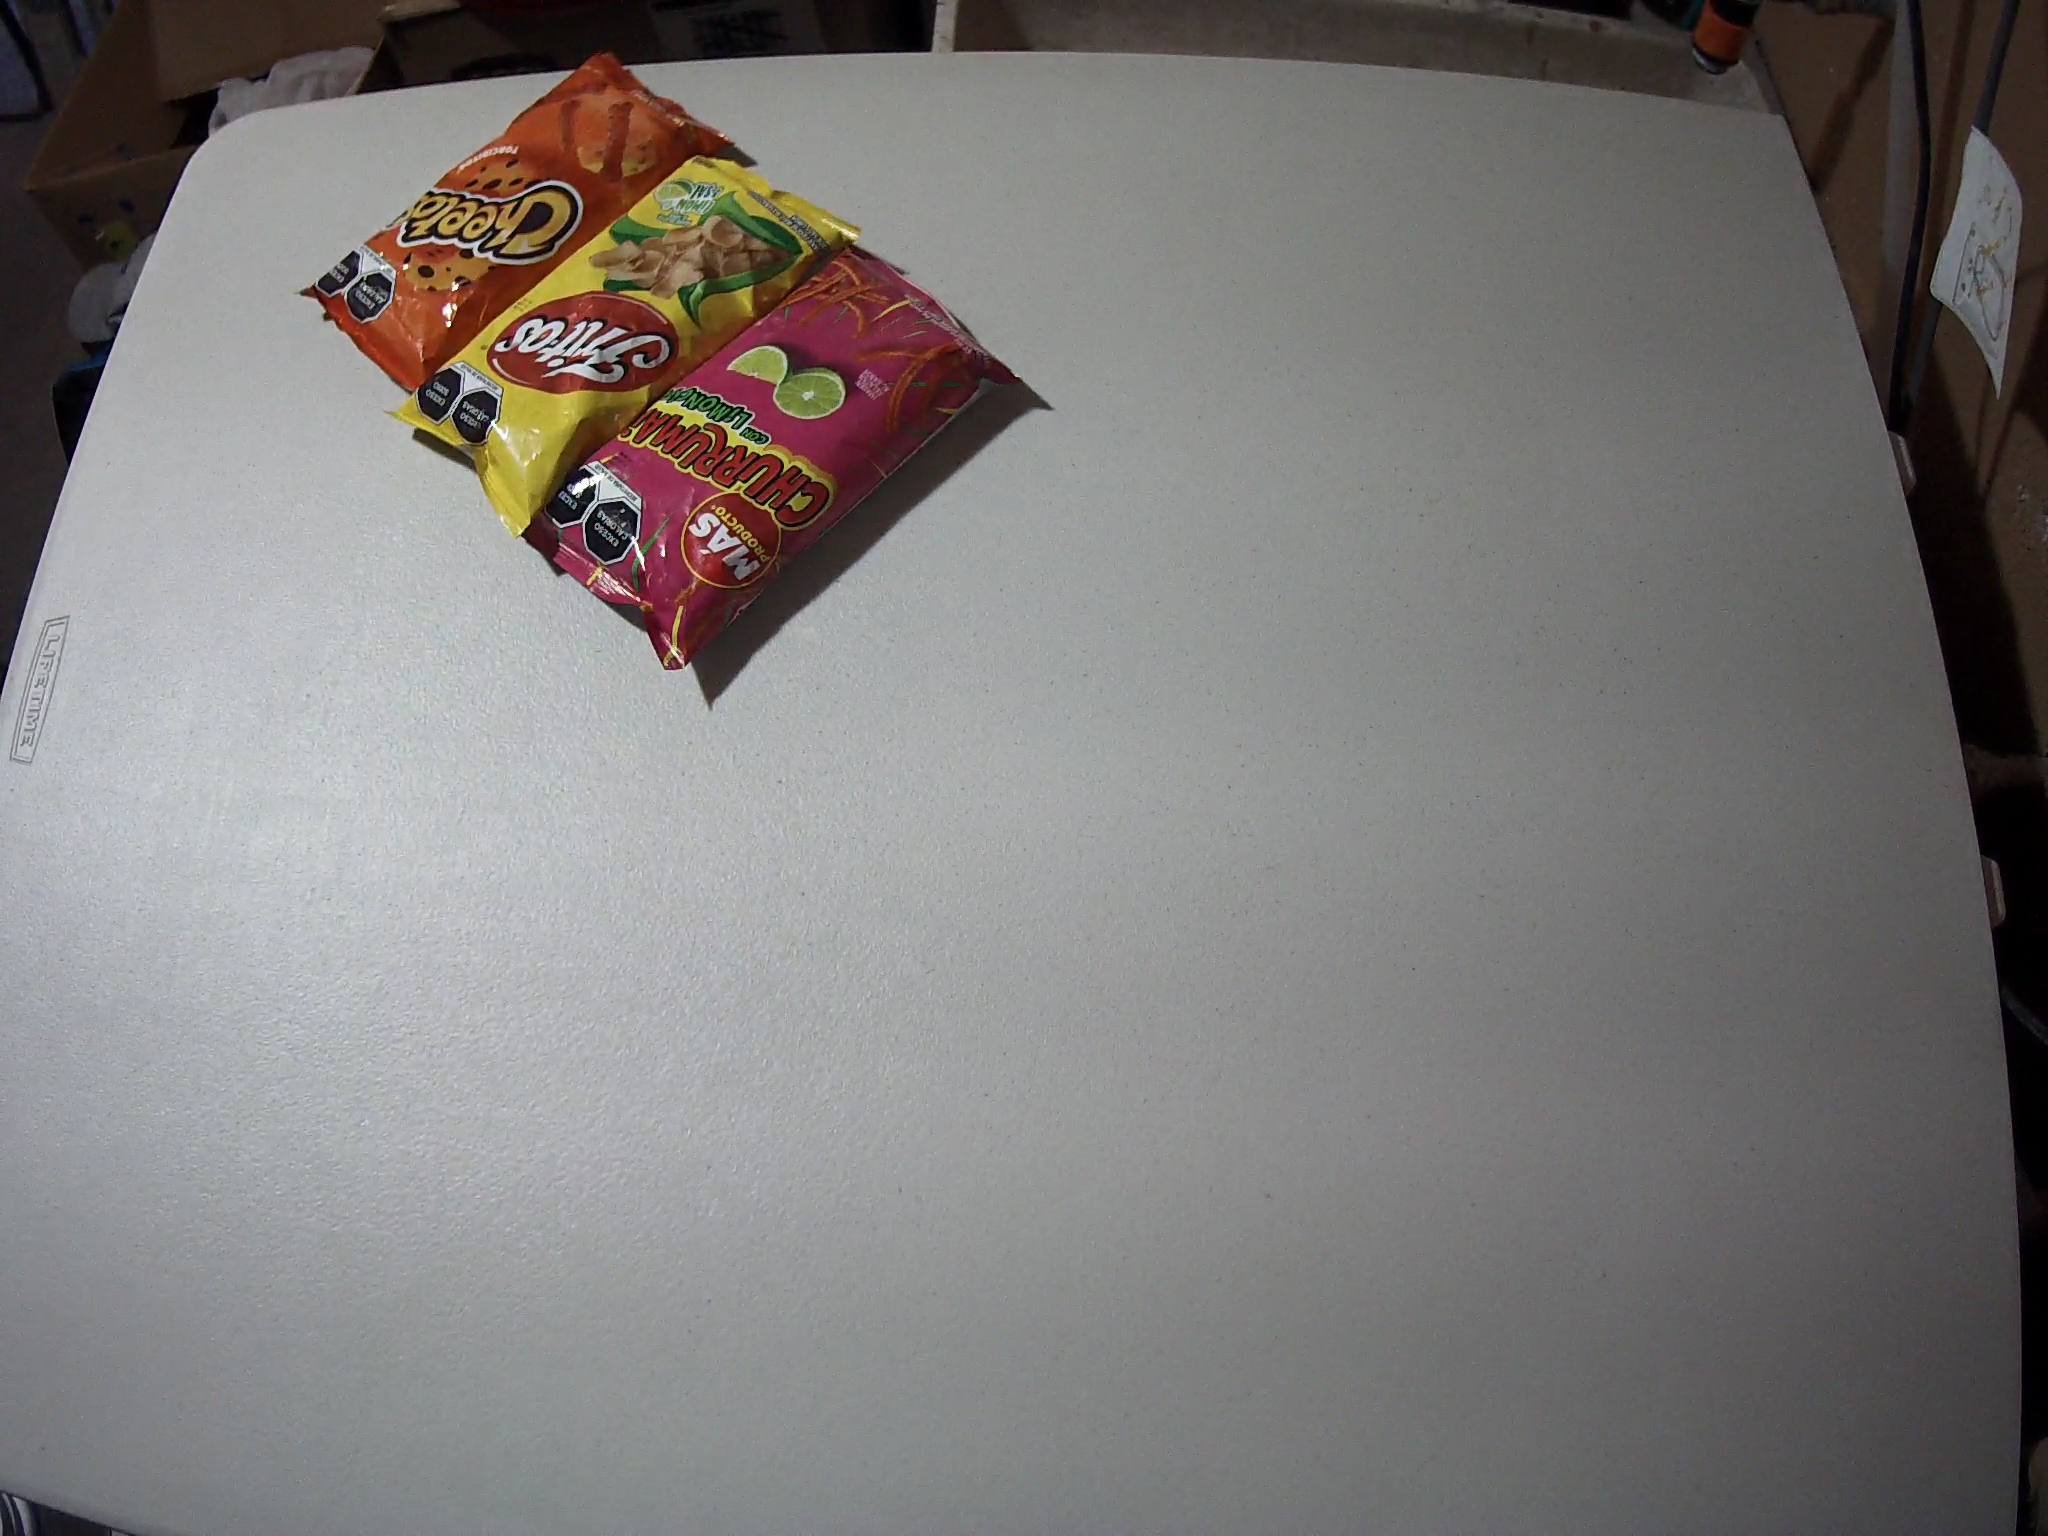CheetosTorciditos_55_F: (298, 53, 732, 394)
Churrumais_70_F: (524, 245, 1022, 671)
FritosSalLimon_65_F: (389, 155, 864, 537)
